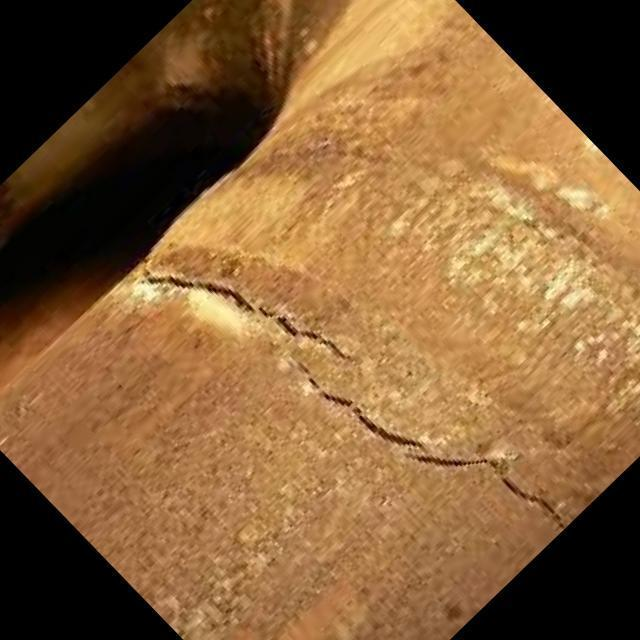defect: (285, 356, 575, 538), (135, 252, 370, 374)
